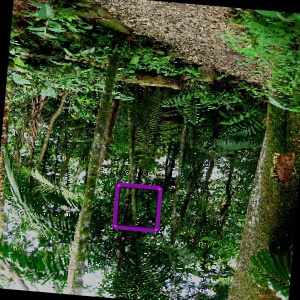square: (109, 180, 166, 235)
